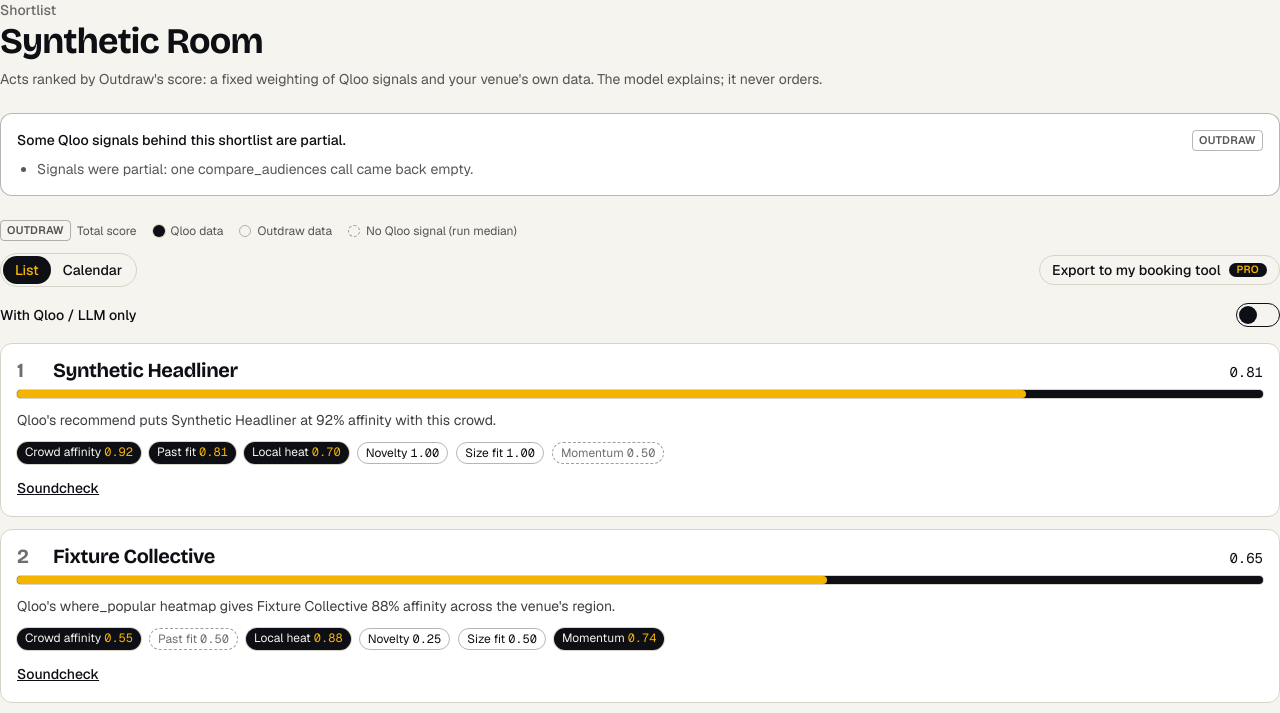
Test: With Qloo / LLM only toggle › says why when the LLM-only list can't be had
Click the switch named "With Qloo / LLM only" at (1258, 315), box [1236, 303, 1279, 327]
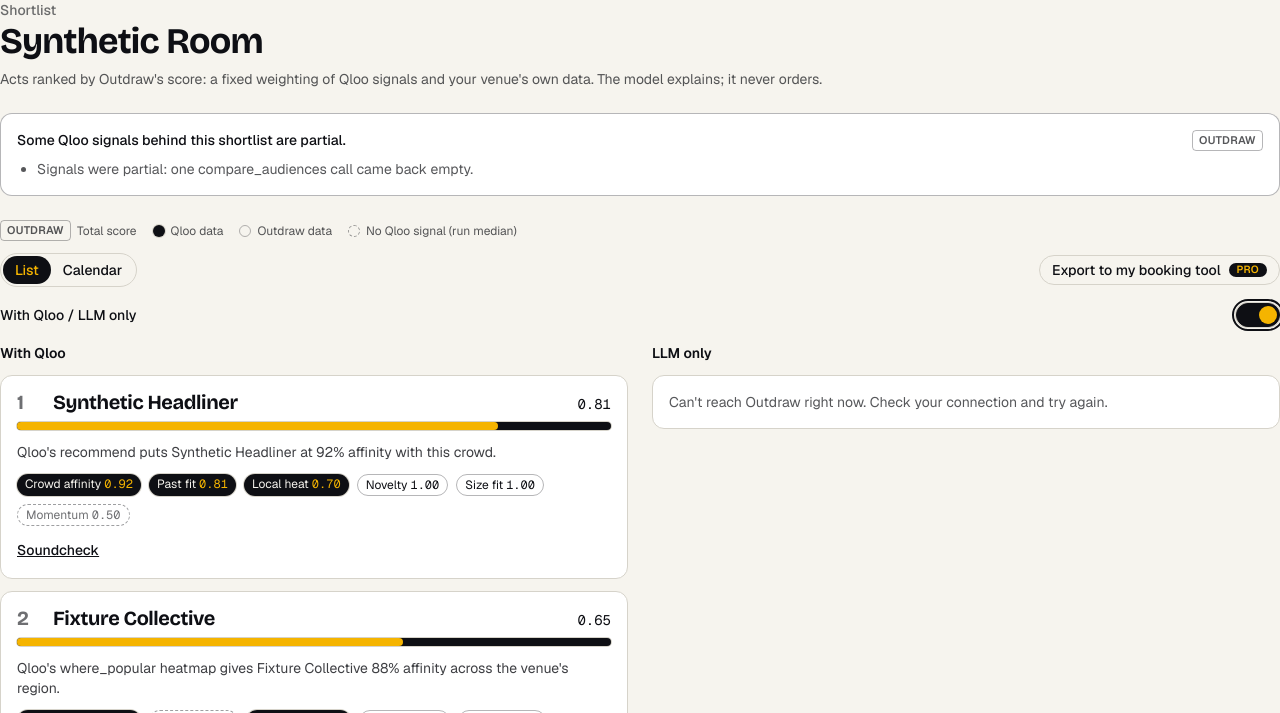
Result: the message shows "Can't reach Outdraw" at [669, 393, 1108, 411]
